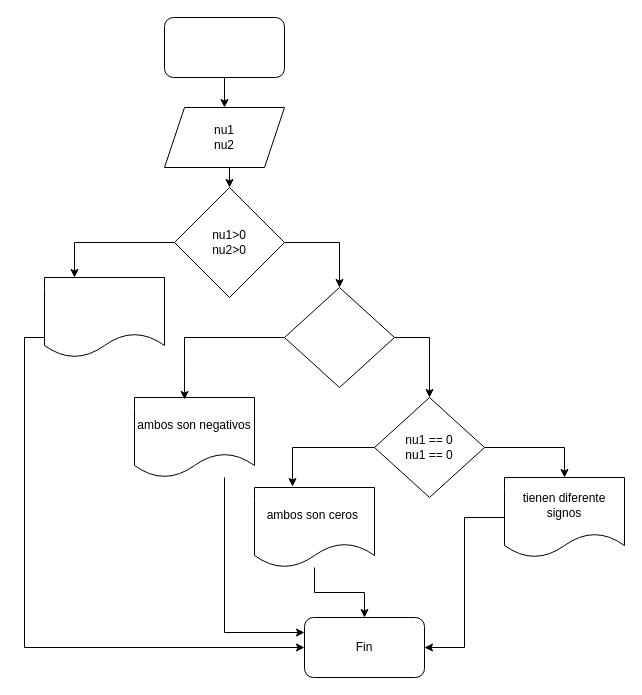
This 642x695 diagram has some shape labels left out. Each missing label, with the box of its shape:
ambos son positivos: (44, 276, 164, 358)
inicio: (164, 16, 284, 78)
nu1<0 nu1<0: (284, 286, 394, 388)
